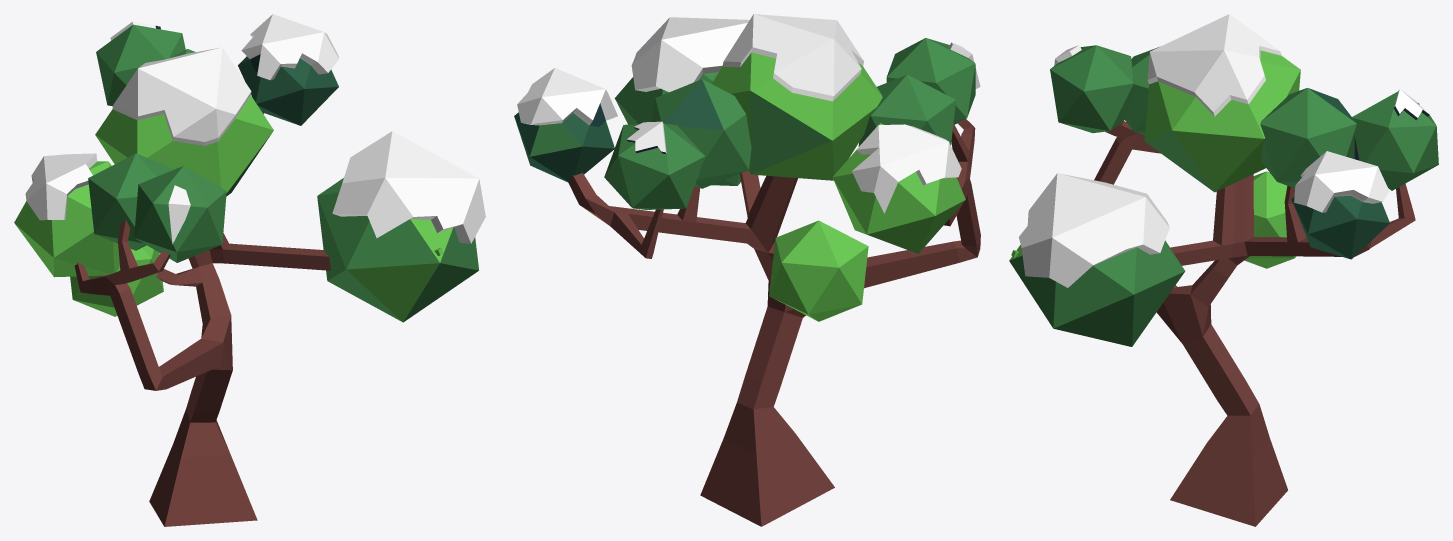
File: treesnow2.fbx
The picture shows the model from 3 angles, left to right: view 1: azimuth 30°, elevation 25°; view 2: azimuth 150°, elevation 25°; view 3: azimuth 270°, elevation 25°; orthographic projection. The views are drawn at different scales.
Parts seen in each view (by area): view 1: Icosphere.001; view 2: Icosphere.001; view 3: Icosphere.001.
Boxes of the visible parts, x1,y1,x2,y2 form: Icosphere.001: (14, 14, 485, 526); Icosphere.001: (514, 14, 980, 526); Icosphere.001: (1009, 14, 1438, 526).
Bounding box in the file's own units: 841 × 1003 × 850.
1 material, 1 textured.
